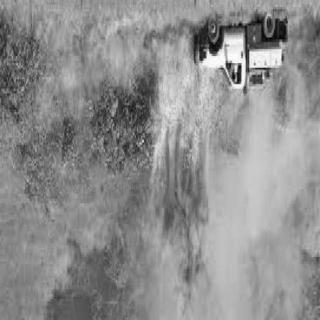Fire: (148, 38, 239, 320)
Smoke: (240, 126, 287, 294), (214, 180, 238, 297), (288, 139, 304, 189)
